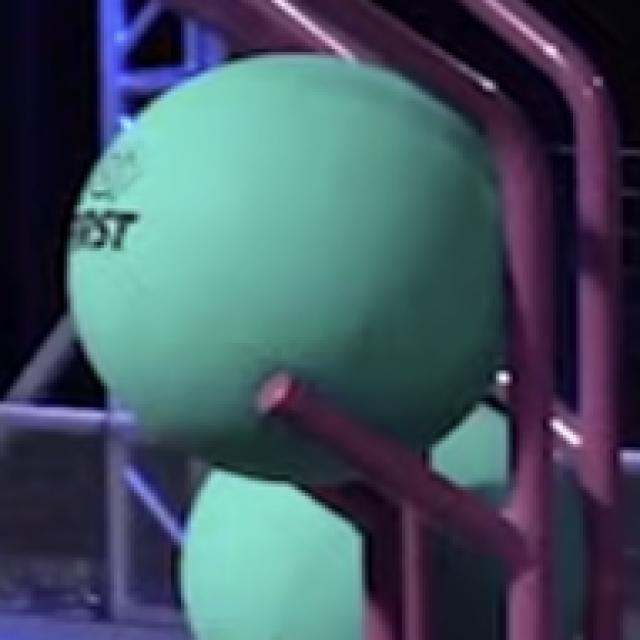Algae: (69, 54, 503, 480), (182, 402, 585, 637)
Reef: (257, 372, 526, 573), (483, 376, 583, 474), (300, 478, 372, 530)
